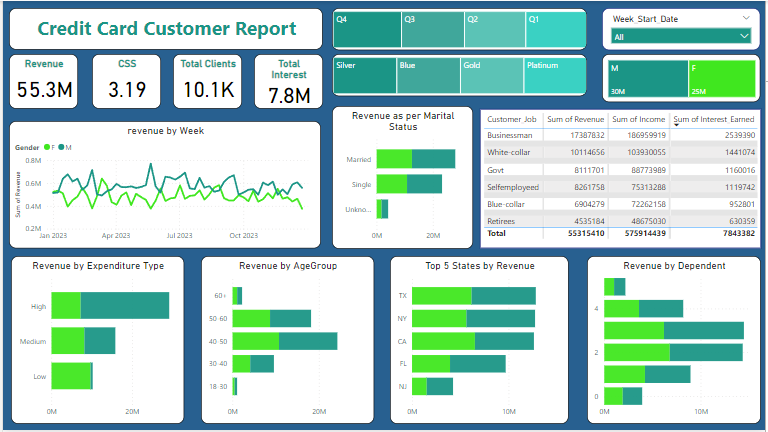

Layout of this report page (visuals, bound fields, positions):
{"tool":"powerbi","page":{"name":"CC Customer","canvas":[1280,720],"ordinal":2},"visuals":[{"type":"textbox","box":[10.1,11.8,527.5,70],"z":0},{"type":"barChart","title":"Revenue by Expenditure Type","fields":{"Y":["cctb credit_card.Revenue"],"Category":["cctb customer.IncomeGroup"],"Series":["cctb customer.Gender"]},"box":[12.8,428,291,282],"z":1000},{"type":"tableEx","fields":{"Values":["cctb customer.Customer_Job","cctb credit_card.Revenue","cctb customer.Income","cctb credit_card.Interest_Earned"]},"box":[800.8,181.4,472,233.9],"z":2000},{"type":"card","title":"Revenue","fields":{"Values":["cctb credit_card.Revenue"]},"box":[10.1,89,116,92],"z":3000},{"type":"card","title":"Total Clients","fields":{"Values":["cctb customer.Client_Num"]},"box":[286.3,89.3,116.2,92.1],"z":4000},{"type":"card","title":"Total Interest","fields":{"Values":["cctb credit_card.Interest_Earned"]},"box":[420.9,89.3,116.2,92.1],"z":5000},{"type":"card","title":"CSS","fields":{"Values":["cctb customer.Cust_Satisfaction_Score"]},"box":[149.5,89,116,92],"z":6000},{"type":"slicer","fields":{"Values":["cctb credit_card.Week_Start_Date"]},"box":[1006.3,11.3,266.5,70.9],"z":7000},{"type":"treemap","fields":{"Group":["cctb credit_card.Qtr"],"Values":["cctb customer.Client_Num"]},"box":[552.8,11.3,428,70.9],"z":8000},{"type":"treemap","fields":{"Group":["cctb credit_card.Card_Category"],"Values":["cctb customer.Client_Num"]},"box":[552.8,89.3,428,70.9],"z":9000},{"type":"lineChart","title":"revenue by Week","fields":{"Y":["cctb credit_card.Revenue"],"Series":["cctb customer.Gender"],"Category":["cctb credit_card.Week_Start_Date.Variation.Date Hierarchy.Year","cctb credit_card.Week_Start_Date.Variation.Date Hierarchy.Month","cctb credit_card.Week_Start_Date.Variation.Date Hierarchy.Day"]},"box":[9.9,201.3,524.4,214],"z":10000},{"type":"treemap","fields":{"Values":["cctb credit_card.Revenue"],"Group":["cctb customer.Gender"]},"box":[1006.3,89.3,266.5,80.8],"z":11000},{"type":"barChart","title":"Revenue by AgeGroup","fields":{"Y":["cctb credit_card.Revenue"],"Category":["cctb customer.AgeGroup"],"Series":["cctb customer.Gender"]},"box":[333.1,428,290.6,282],"z":12000},{"type":"barChart","title":"Top 5 States by Revenue","fields":{"Y":["cctb credit_card.Revenue"],"Category":["cctb customer.State_cd"],"Series":["cctb customer.Gender"]},"box":[650.6,428,300.5,282],"z":13000},{"type":"barChart","title":"Revenue  by Dependent ","fields":{"Y":["cctb credit_card.Revenue"],"Category":["cctb customer.Dependent_Count"],"Series":["cctb customer.Gender"]},"box":[980.8,428,292,282],"z":14000},{"type":"barChart","title":"Revenue as per Marital Status","fields":{"Y":["cctb credit_card.Revenue"],"Category":["cctb customer.Marital_Status"],"Series":["cctb customer.Gender"]},"box":[552.8,175.7,236.7,239.5],"z":15000}]}

Visuals, with their boxes in screenshot pixels (x1, y1, x2, y2), scaled from the page's 1280x720 canvas onto the 768x432 screenshot:
textbox: (x1=6, y1=7, x2=323, y2=49)
"Revenue by Expenditure Type" barChart: (x1=8, y1=257, x2=182, y2=426)
tableEx - cctb customer.Customer_Job x cctb credit_card.Revenue: (x1=480, y1=109, x2=764, y2=249)
"Revenue" card: (x1=6, y1=53, x2=76, y2=109)
"Total Clients" card: (x1=172, y1=54, x2=242, y2=109)
"Total Interest" card: (x1=253, y1=54, x2=322, y2=109)
"CSS" card: (x1=90, y1=53, x2=159, y2=109)
slicer - cctb credit_card.Week_Start_Date: (x1=604, y1=7, x2=764, y2=49)
treemap - cctb credit_card.Qtr x cctb customer.Client_Num: (x1=332, y1=7, x2=588, y2=49)
treemap - cctb credit_card.Card_Category x cctb customer.Client_Num: (x1=332, y1=54, x2=588, y2=96)
"revenue by Week" lineChart: (x1=6, y1=121, x2=321, y2=249)
treemap - cctb credit_card.Revenue x cctb customer.Gender: (x1=604, y1=54, x2=764, y2=102)
"Revenue by AgeGroup" barChart: (x1=200, y1=257, x2=374, y2=426)
"Top 5 States by Revenue" barChart: (x1=390, y1=257, x2=571, y2=426)
"Revenue  by Dependent " barChart: (x1=588, y1=257, x2=764, y2=426)
"Revenue as per Marital Status" barChart: (x1=332, y1=105, x2=474, y2=249)
